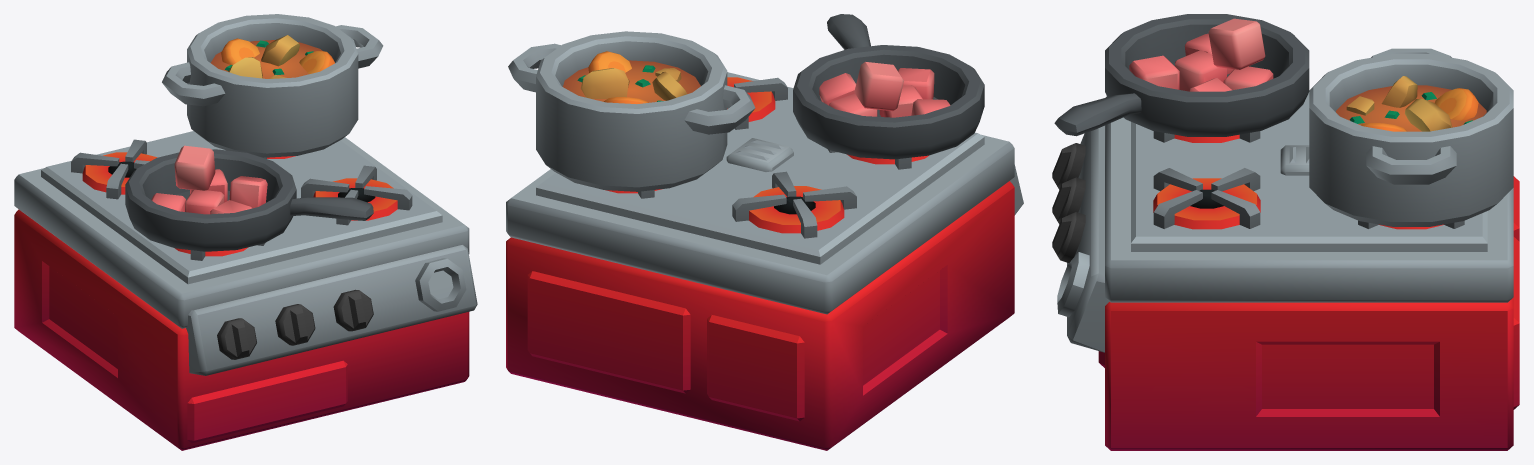
Rendered from kay-stove_multi_decorated.glb.
The picture shows the model from 3 angles, left to right: view 1: azimuth 30°, elevation 25°; view 2: azimuth 150°, elevation 25°; view 3: azimuth 270°, elevation 25°; orthographic projection. The views are drawn at different scales.
Parts seen in each view (by area): view 1: stove_multi_decorated; view 2: stove_multi_decorated; view 3: stove_multi_decorated.
Boxes of the visible parts, bbox=[...] form: stove_multi_decorated: bbox=[14, 14, 477, 450]; stove_multi_decorated: bbox=[506, 14, 1023, 450]; stove_multi_decorated: bbox=[1052, 14, 1519, 450].
Bounding box in the file's own units: 0.9616 × 0.75 × 1.
1 material, 1 textured.
